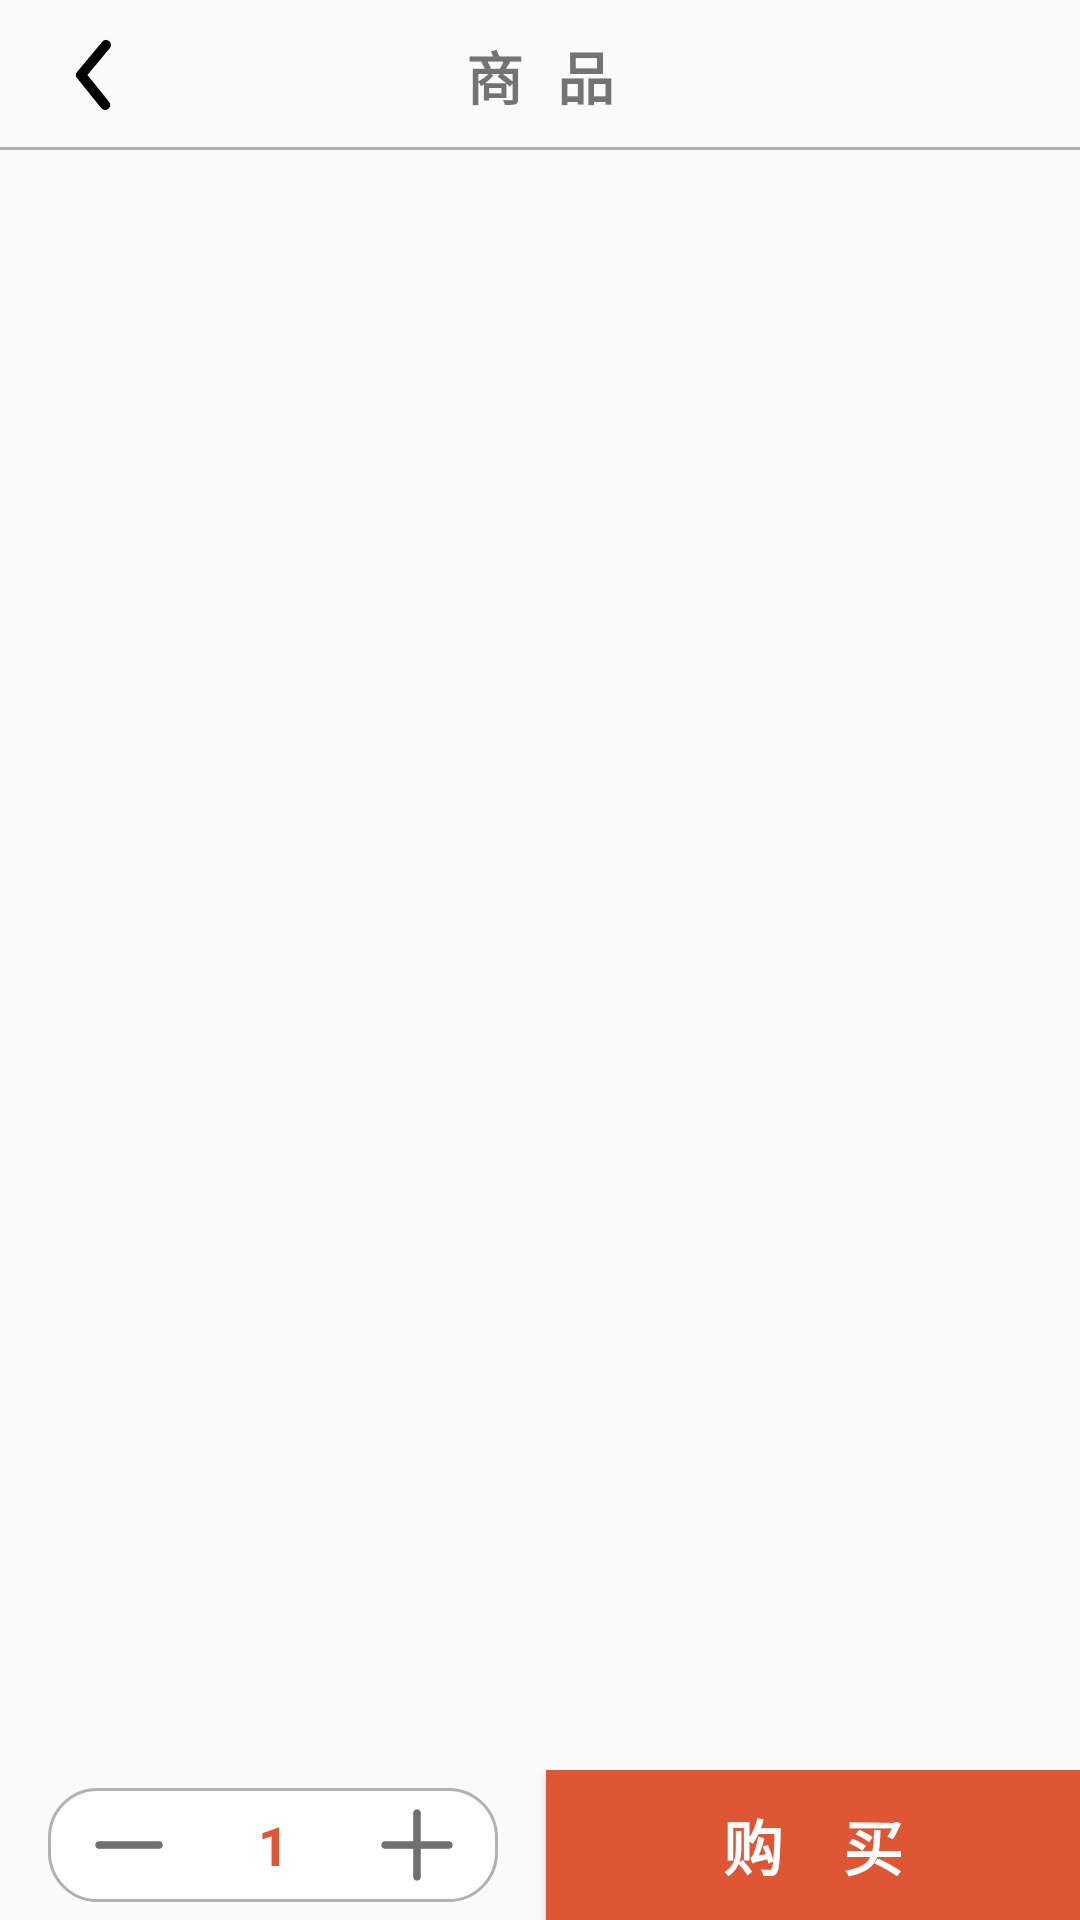

Point at icon controls on the screen. Image size 1080x1920, points as point (x, y).
back: point (93, 75)
plus: point (417, 1845)
